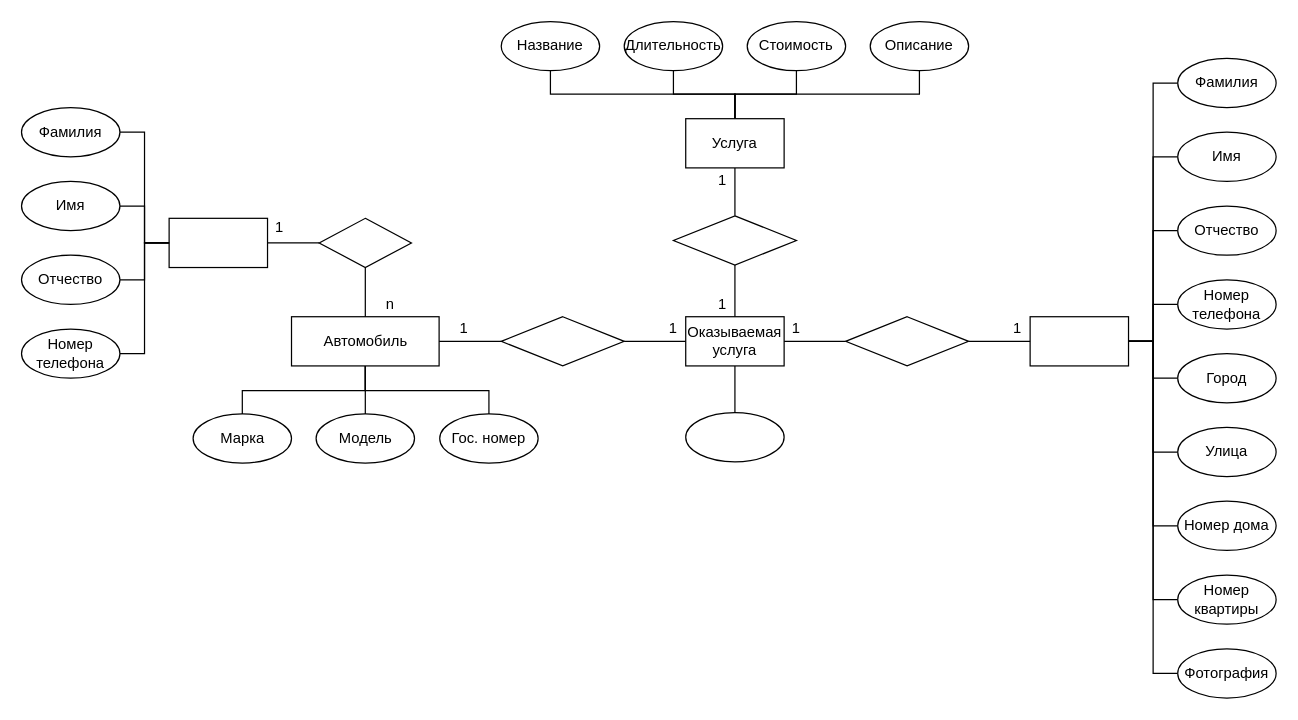
The diagram is 1298 pixels wide and 720 high, and some of its shapes have lost their labels. The box of each missing label's shape, as (x1, y1, x2, y2) in pixels:
Владеет: (318, 217, 411, 268)
Время оказания: (684, 411, 784, 462)
Выполняется: (844, 315, 969, 366)
Клиент: (168, 217, 268, 268)
Оказывается: (500, 315, 624, 366)
Содержит: (672, 215, 796, 265)
Сотрудник: (1029, 315, 1129, 366)
